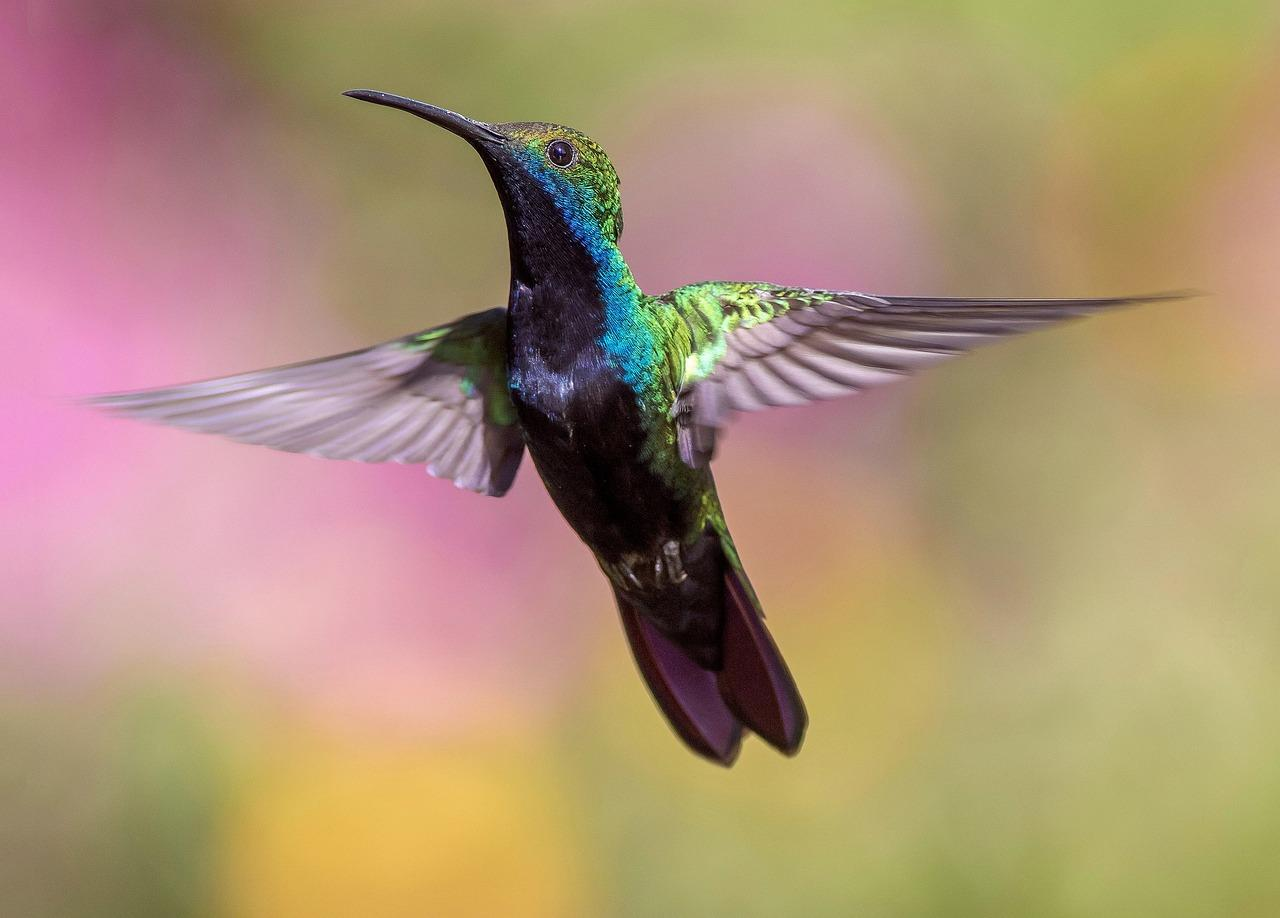bird: (95, 91, 1185, 765)
